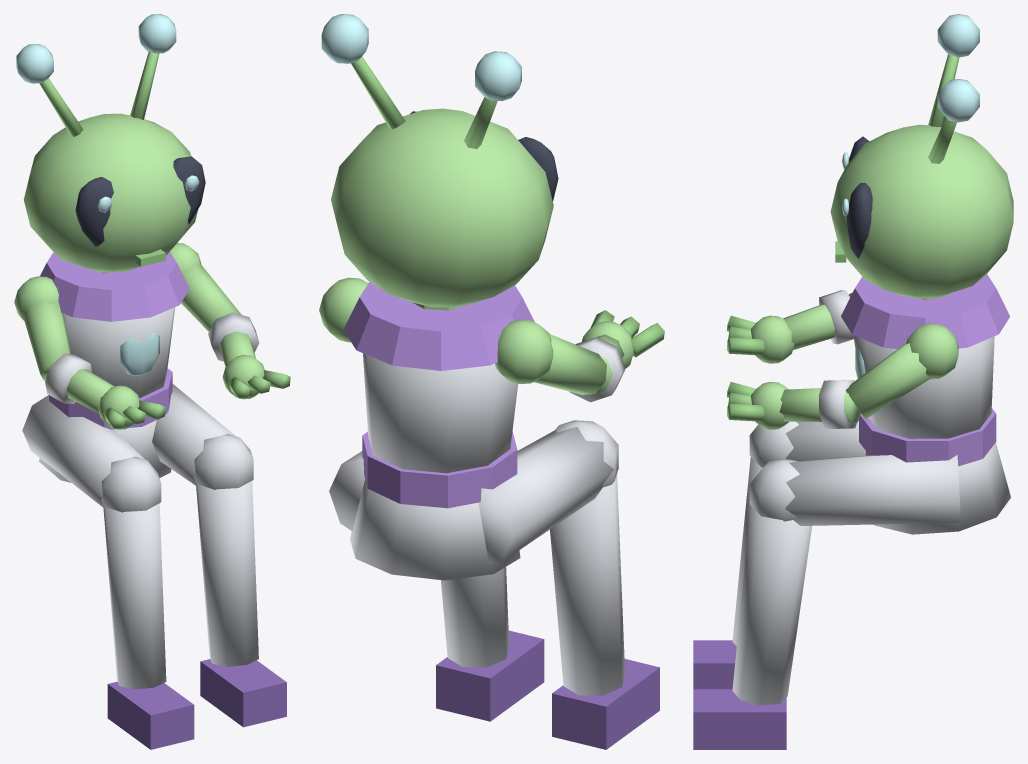
Rendered from meeple_10_alien.glb.
3 views of the same model, side by side, from view 1: azimuth 30°, elevation 25°; view 2: azimuth 150°, elevation 25°; view 3: azimuth 270°, elevation 25° (orthographic). The views are drawn at different scales.
Visible parts, largest first — view 1: meeple_10_alien; view 2: meeple_10_alien; view 3: meeple_10_alien.
Part boxes in pixels (x1,y1,x2,y2): meeple_10_alien: (14,14,290,749); meeple_10_alien: (319,14,664,749); meeple_10_alien: (693,14,1013,749).
Size of the model in its own units: 0.5234 by 1.46 by 0.6354.
